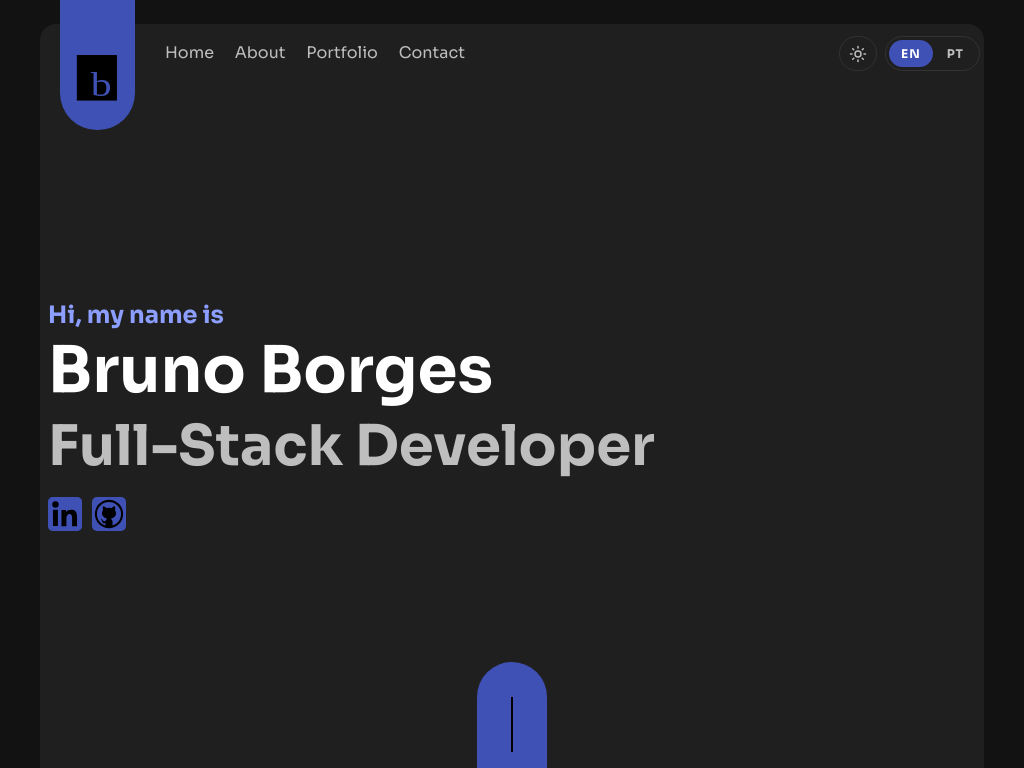
App › translates the header navigation and the document when switching language
Expected: the text "About" is shown, [235,42,286,62]
Click the button with aria-label "PT - Português" at (955, 54), box [935,40,976,67]
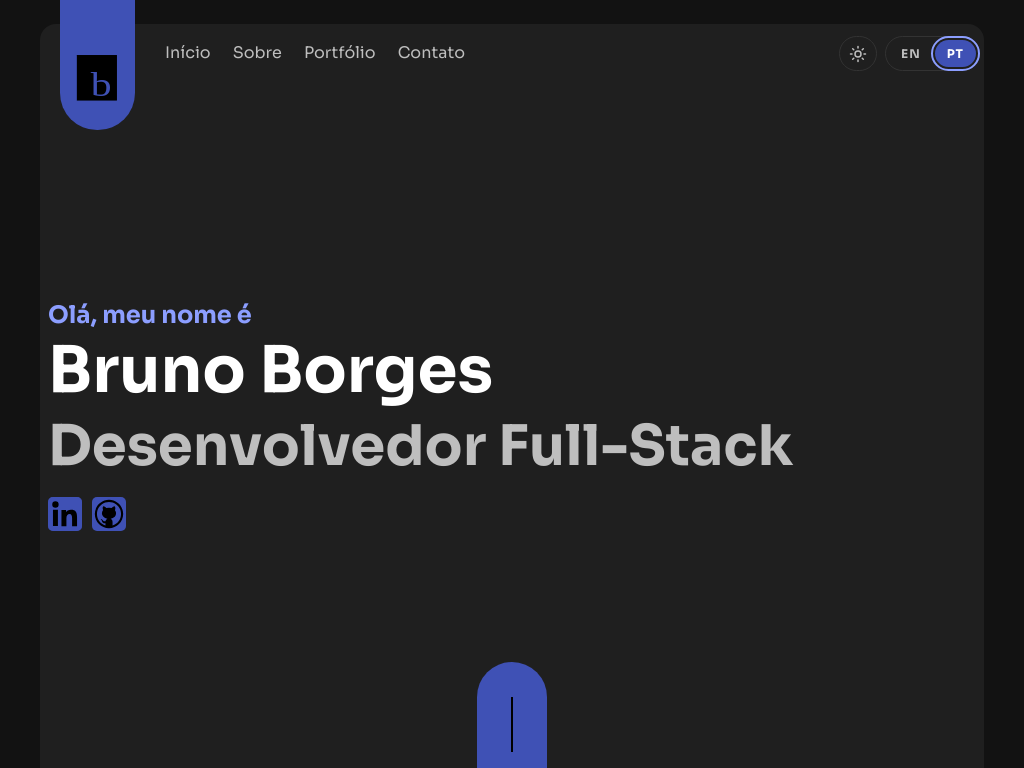
Expected: the text "Sobre" is shown, [233,42,282,62]
Expected: the heading "Desenvolvedor Full-Stack" is shown, [48,411,793,481]
